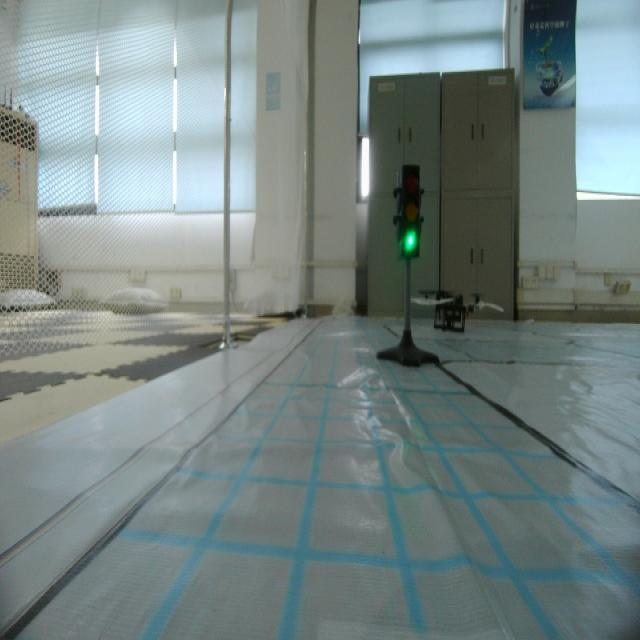green: (392, 163, 428, 262)
